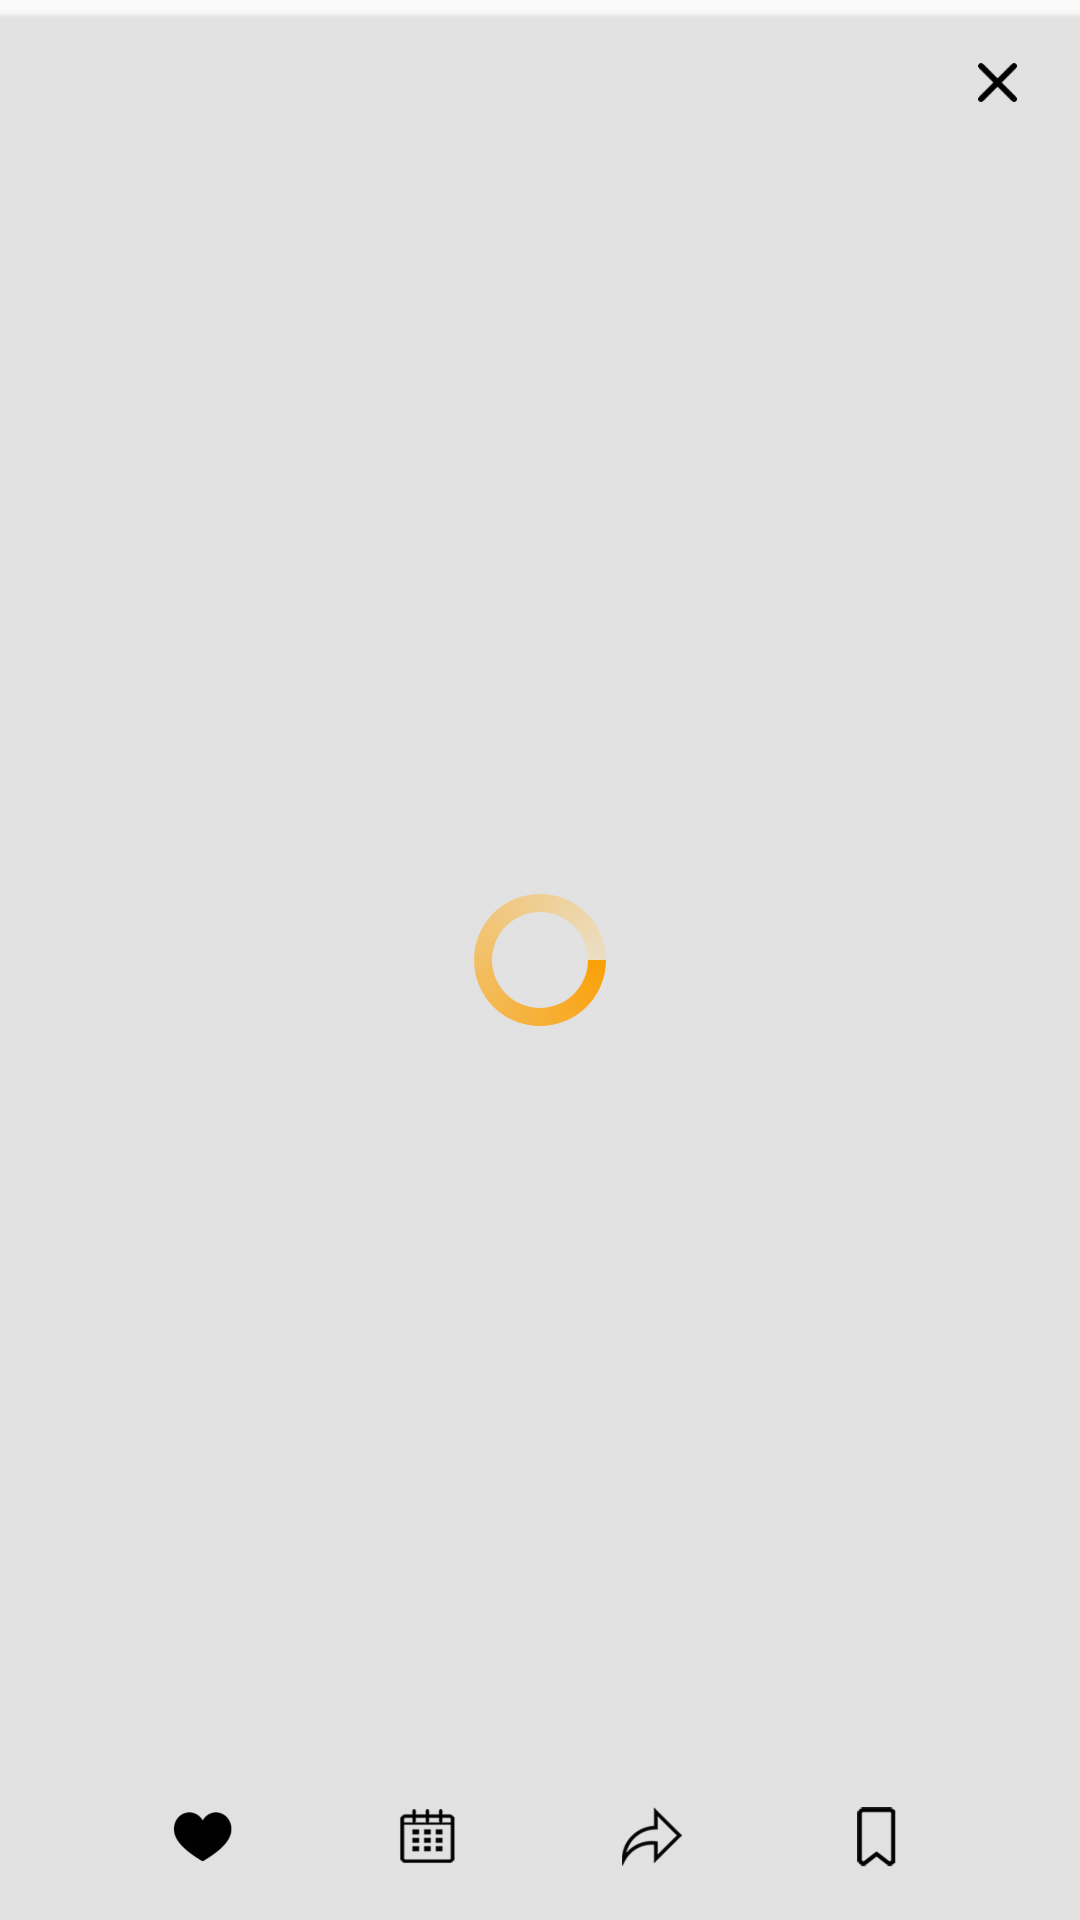

Named icons in this screenshot (1080 x 1920) and their bounding boxes, Rect(x1, y1, x2, y2):
arival cross: Rect(978, 63, 1017, 102)
story bookmark: Rect(857, 1807, 896, 1867)
story like: Rect(174, 1812, 232, 1861)
story schedual: Rect(400, 1809, 455, 1863)
story share: Rect(622, 1808, 682, 1866)
